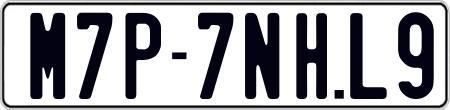7: (75, 10, 115, 98), (198, 13, 233, 105)
9: (396, 12, 431, 104)
H: (294, 11, 327, 103)
L: (350, 10, 389, 102)
M: (28, 12, 68, 104)
N: (242, 10, 276, 102)
P: (124, 11, 166, 99)
